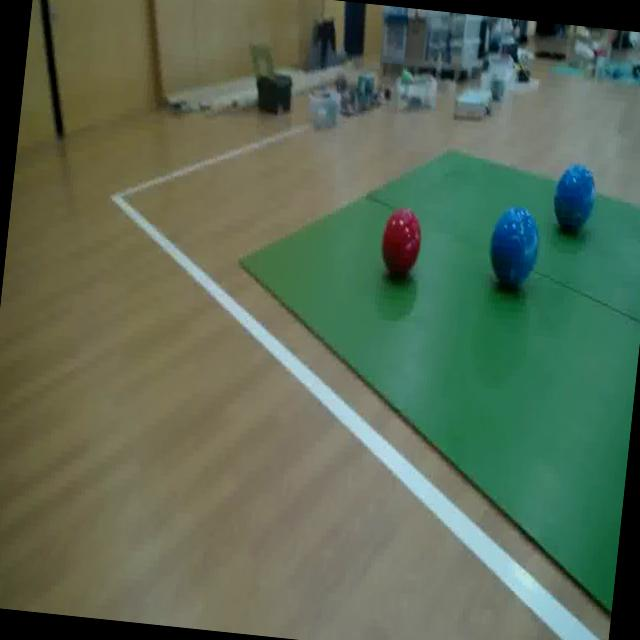blue_ball: (480, 200, 544, 298), (547, 154, 600, 240)
red_ball: (375, 204, 426, 283)
